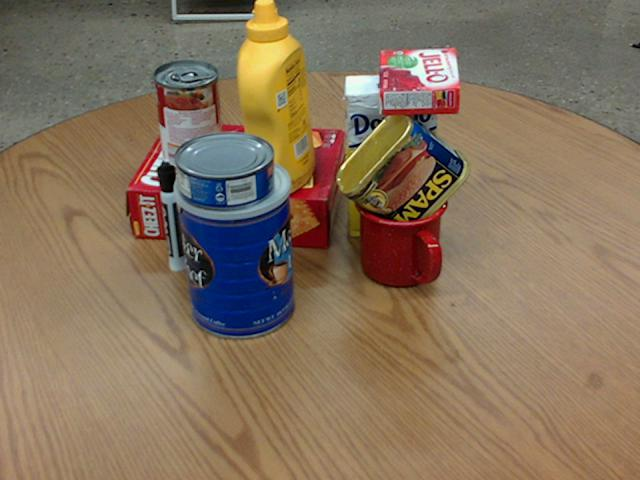cracker_box: (125, 122, 343, 248)
gelatin_box: (379, 48, 459, 113)
large_marker: (157, 163, 187, 272)
master_chef_can: (171, 151, 296, 337)
mug: (356, 177, 451, 288)
mustard_bottle: (238, 0, 315, 197)
potted_meat_can: (335, 109, 470, 239)
sugar_box: (345, 74, 439, 238)
tomato_soup_can: (152, 60, 222, 172)
tuna_fish_can: (173, 130, 274, 208)
